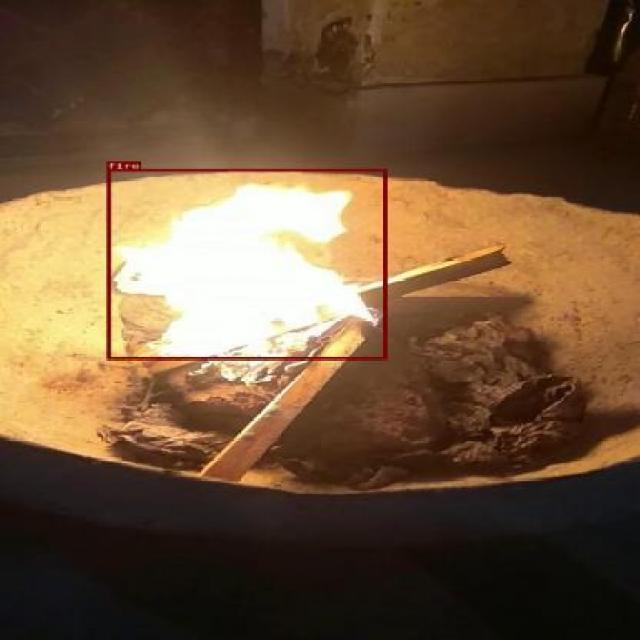Fire: (246, 191, 280, 264)
